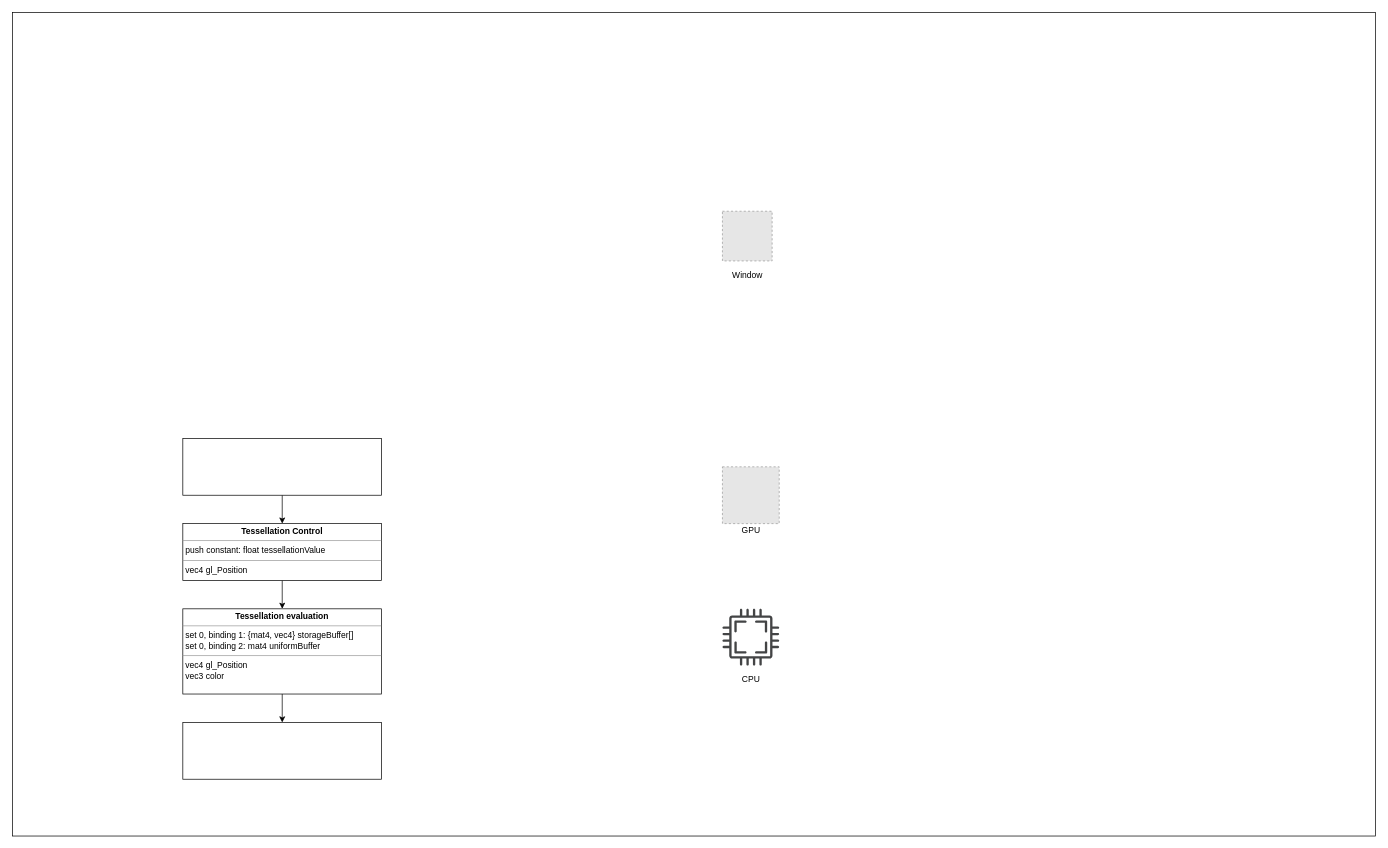
Some shapes in this 1388 by 848 pixel diagram are drawn without their labels. Grey dashed boxes stand in for pictures. The box of each missing label's shape, as (x1, y1, x2, y2) in pixels:
Fragment vec3 color vec4 color: (182, 722, 382, 779)
Vertex set 0, binding 0: {float, float, float} storageBuffer[] vec4 gl_Position: (182, 438, 382, 495)
